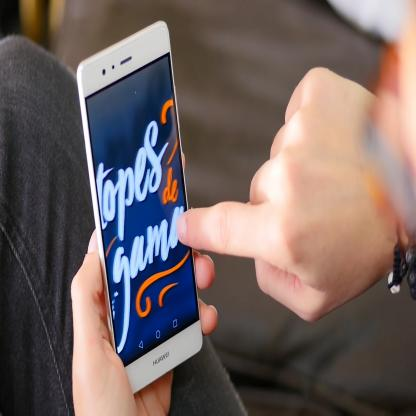smartphone: (75, 18, 204, 398)
